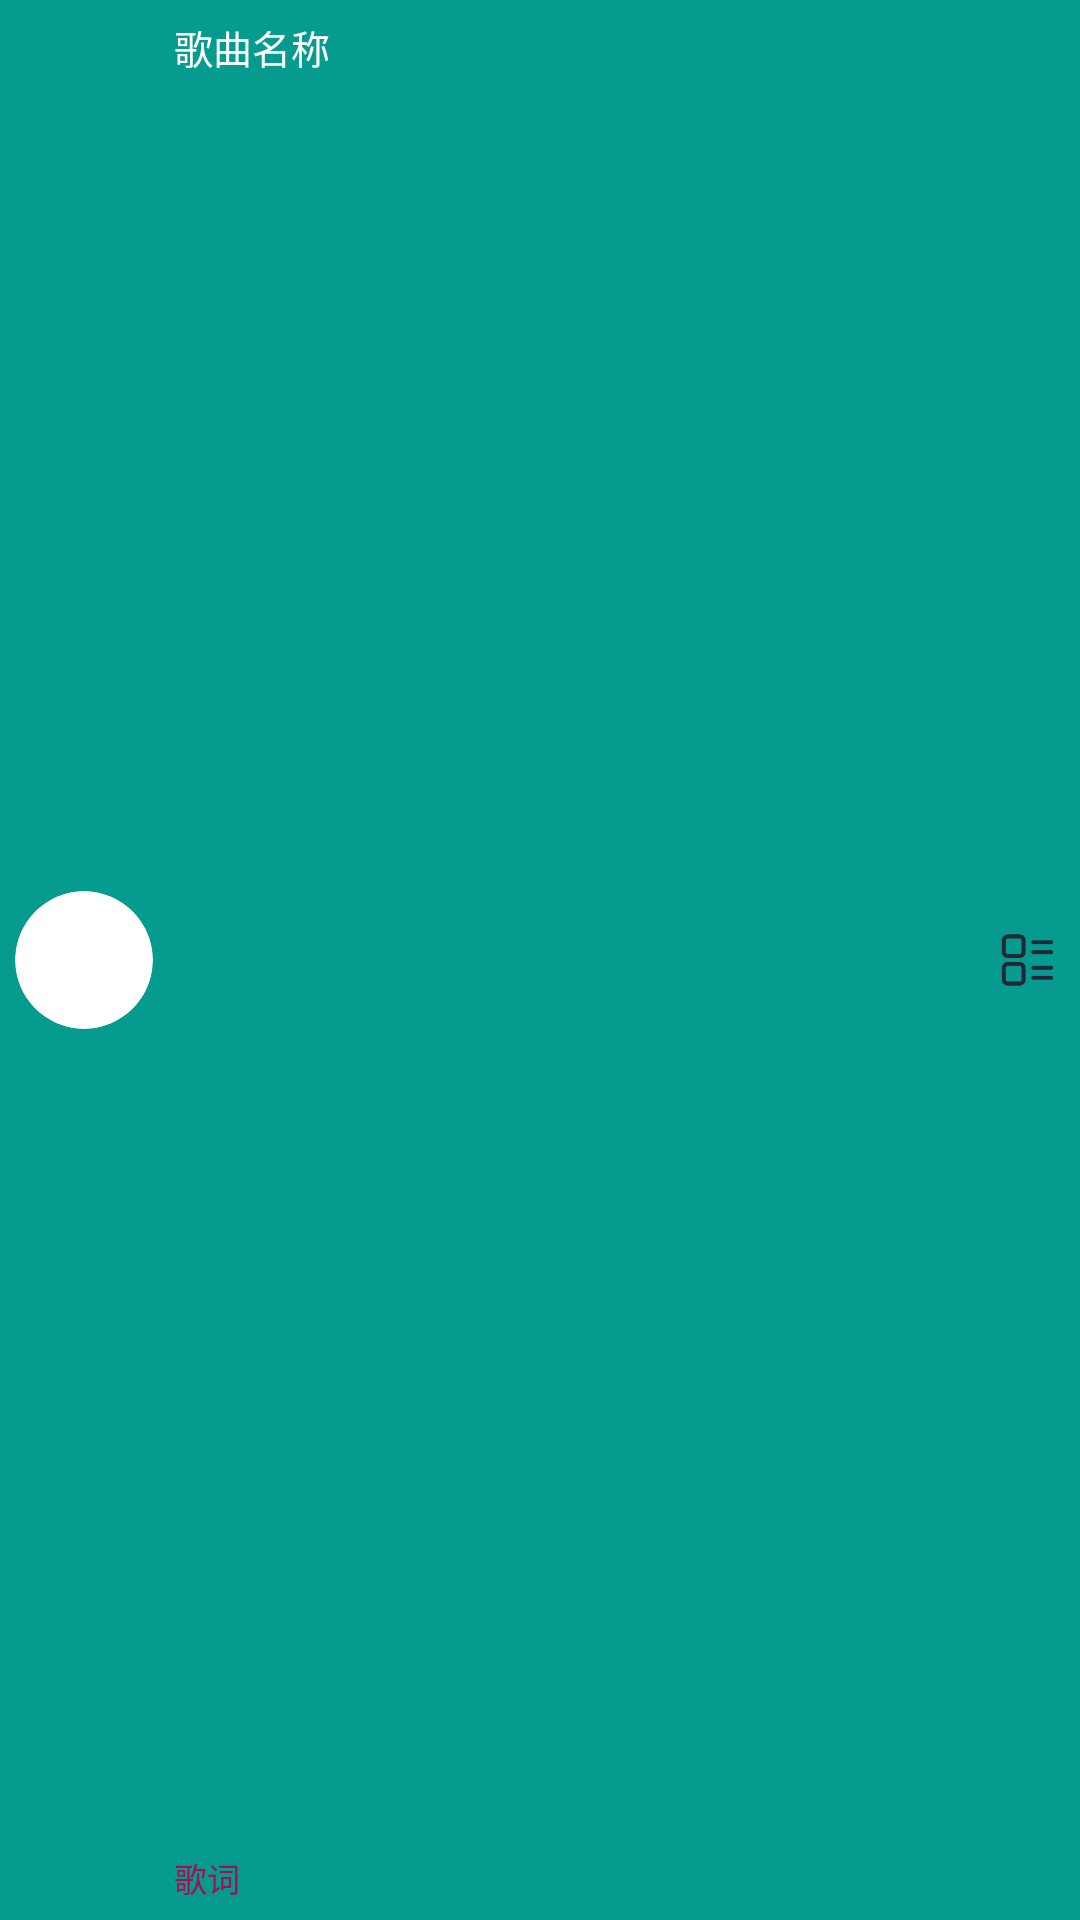

Icons on this 1080×1920 Android screen, each with the point to tap as [x,y]:
list: [1027,960]
